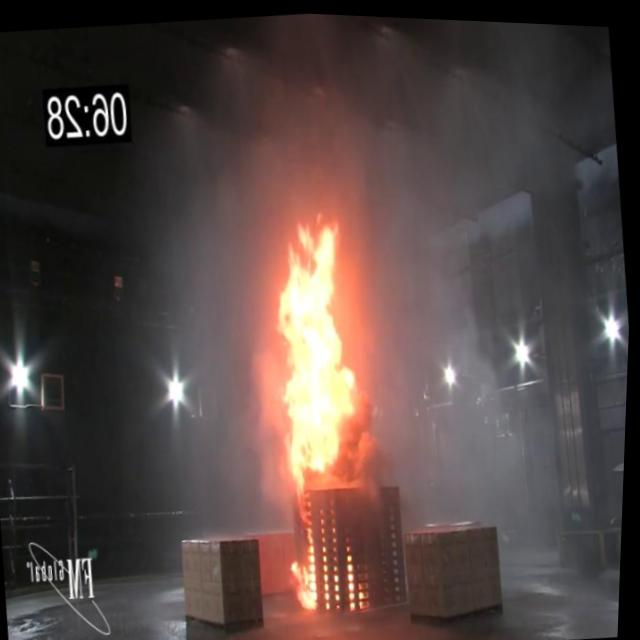fire: (261, 202, 380, 491), (287, 524, 323, 614)
